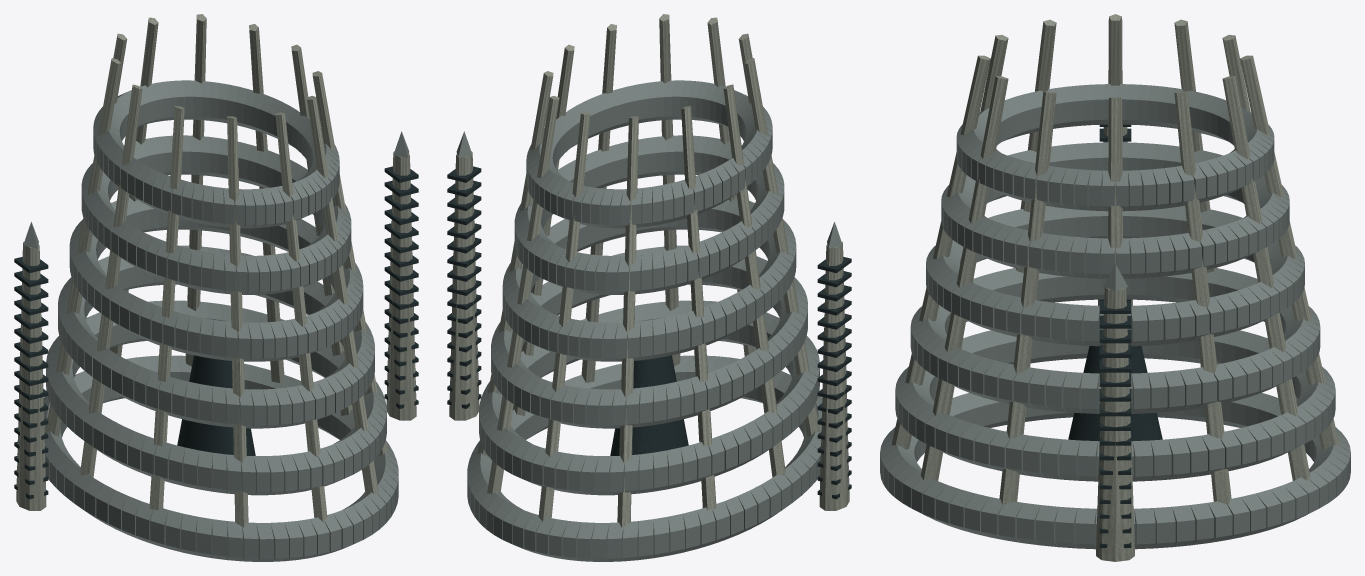
File: rim_engine_reliquary_01.fbx
3 renders of one model, left to right at view 1: azimuth 30°, elevation 25°; view 2: azimuth 150°, elevation 25°; view 3: azimuth 270°, elevation 25°, orthographic. The views are drawn at different scales.
Parts seen in each view (by area): view 1: rim_engine_reliquary_01_LOD0; view 2: rim_engine_reliquary_01_LOD0; view 3: rim_engine_reliquary_01_LOD0.
Part boxes in pixels (left/top/right/bottom): rim_engine_reliquary_01_LOD0: left=14, top=14, right=418, bottom=561; rim_engine_reliquary_01_LOD0: left=447, top=14, right=851, bottom=561; rim_engine_reliquary_01_LOD0: left=880, top=14, right=1350, bottom=561.
Size of what is drawn, in the model's own units: 1 by 1 by 1.
